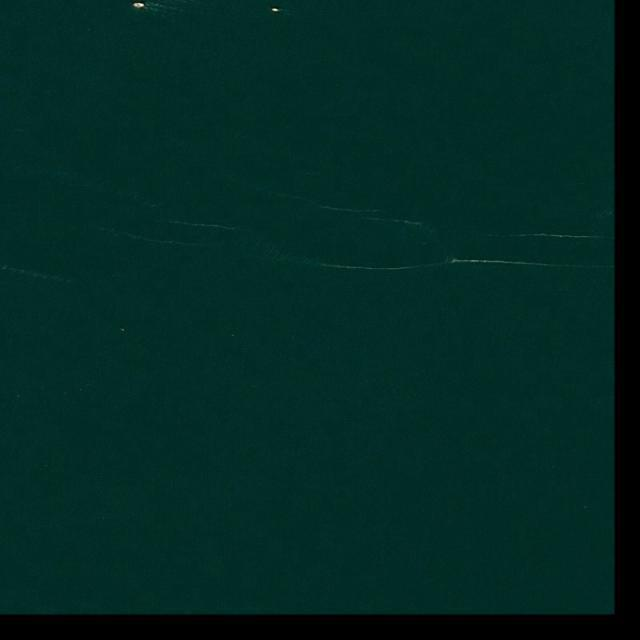ship: (133, 0, 144, 8), (272, 8, 279, 12)
